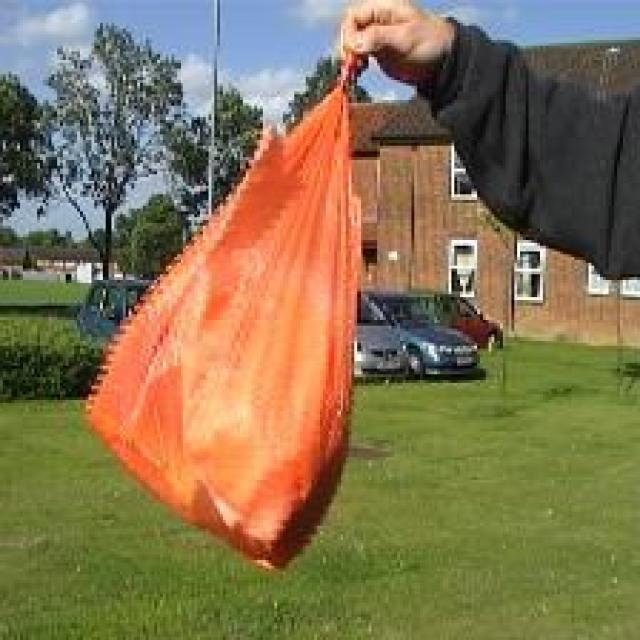other: (98, 72, 365, 564)
